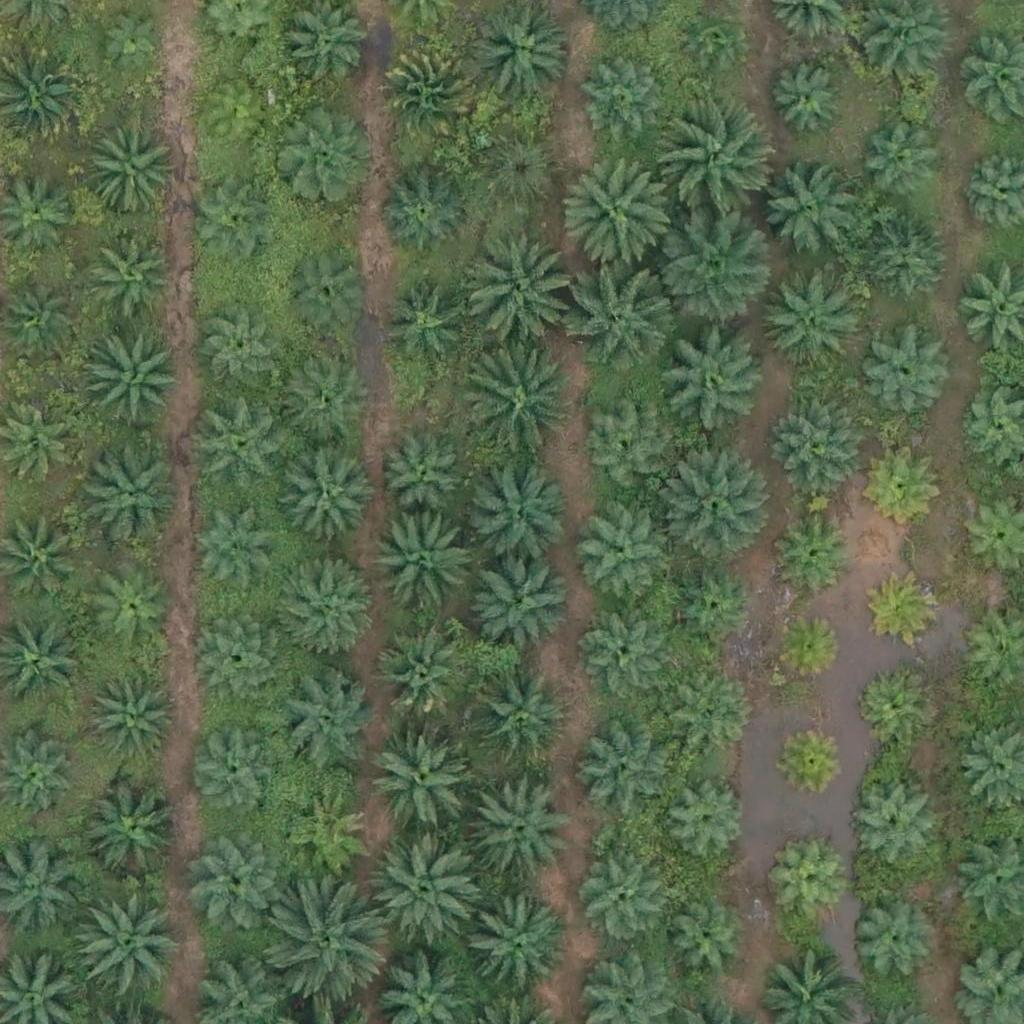Kelapa_Sawit: (461, 236, 574, 350), (459, 895, 572, 1008), (656, 213, 769, 326), (657, 323, 770, 436), (658, 446, 771, 559), (567, 259, 680, 372), (563, 155, 676, 268), (457, 350, 570, 463), (269, 887, 382, 1000), (663, 103, 775, 217), (371, 839, 483, 952), (64, 886, 176, 999), (470, 774, 570, 875), (759, 267, 859, 368), (466, 466, 566, 567), (471, 549, 571, 650), (371, 722, 471, 823), (470, 666, 570, 767), (577, 718, 677, 819), (373, 514, 473, 615), (277, 551, 377, 652), (82, 442, 182, 543), (82, 781, 182, 881), (758, 162, 858, 262), (273, 108, 373, 208), (382, 43, 482, 143), (278, 669, 378, 769), (194, 397, 294, 497), (83, 116, 183, 216), (83, 325, 183, 425), (186, 725, 274, 814), (846, 781, 934, 869), (572, 853, 660, 941), (668, 561, 756, 649), (668, 679, 756, 767), (859, 112, 947, 200), (471, 129, 559, 217), (283, 245, 371, 333), (376, 275, 464, 363), (578, 517, 666, 605), (579, 609, 667, 697), (580, 60, 668, 148), (381, 168, 469, 256), (381, 425, 469, 513), (197, 307, 285, 395), (189, 510, 277, 598), (193, 614, 281, 702), (95, 677, 183, 765), (848, 897, 935, 985), (664, 777, 751, 865), (661, 901, 748, 989), (193, 830, 280, 918), (862, 217, 949, 305), (772, 397, 859, 485), (859, 328, 946, 416), (584, 406, 671, 494), (376, 631, 463, 719), (282, 354, 369, 442), (190, 178, 277, 266), (285, 455, 372, 543), (92, 226, 179, 314), (89, 564, 176, 652), (186, 79, 273, 167), (284, 791, 371, 879), (769, 62, 844, 138), (853, 667, 928, 743), (770, 847, 845, 923), (775, 720, 850, 796), (868, 571, 943, 647), (95, 3, 170, 78), (778, 513, 853, 588), (770, 610, 845, 685), (868, 449, 943, 524), (680, 6, 742, 69)
